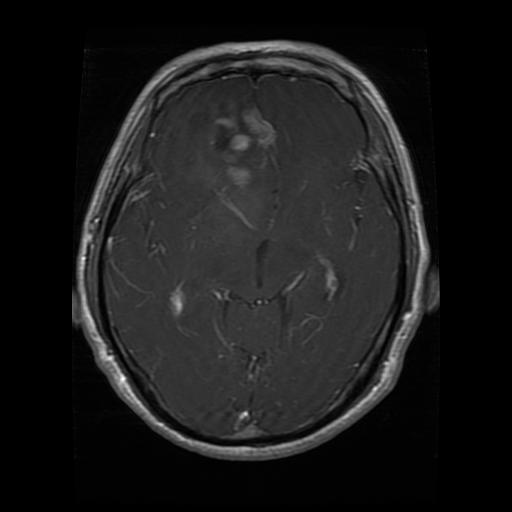Gliomia_tumour: (209, 107, 280, 229)
